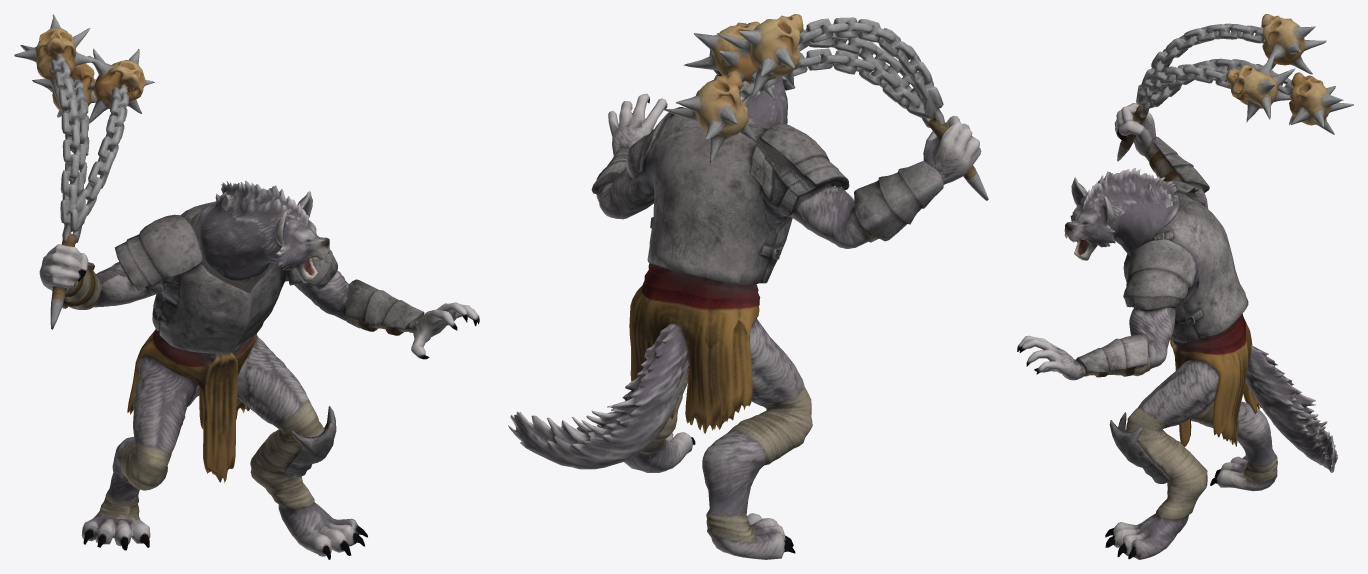
The model's file is MZ4250 - Flind.glb.
3 views of the same model, side by side, from view 1: azimuth 30°, elevation 25°; view 2: azimuth 150°, elevation 25°; view 3: azimuth 270°, elevation 25° (orthographic). The views are drawn at different scales.
Visible parts, largest first — view 1: Flind_low.004; view 2: Flind_low.004; view 3: Flind_low.004.
Part boxes in pixels (<box>): Flind_low.004: <box>14,14,479,559</box>; Flind_low.004: <box>508,14,988,559</box>; Flind_low.004: <box>1017,14,1353,559</box>.
Bounding box in the file's own units: 5.06 × 6.34 × 4.32.
1 material, 1 textured.
